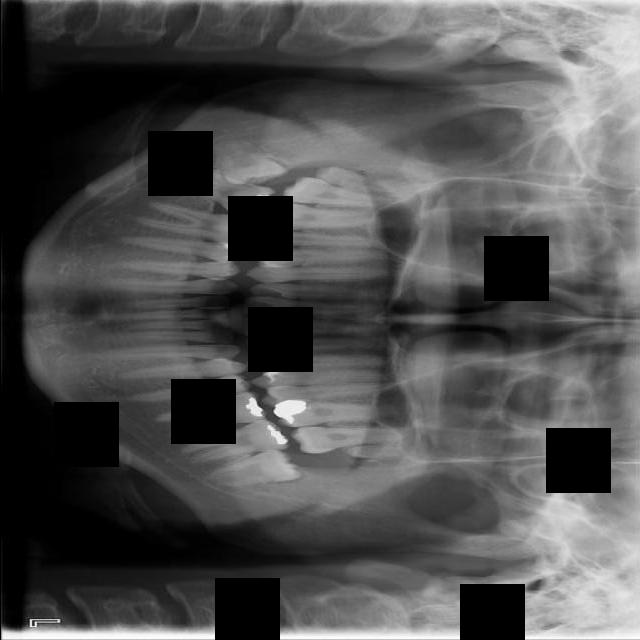3M ESPE Implant: (314, 163, 402, 201)
52: (217, 170, 277, 228), (236, 408, 292, 466), (217, 385, 269, 436), (206, 204, 255, 252), (271, 399, 320, 427), (249, 366, 295, 390), (200, 240, 241, 265)
73: (58, 591, 72, 593)
BioHorizons Implant: (289, 426, 413, 456)
Biomet 3i Implant: (203, 446, 302, 491)
Blue Sky Bio Implant: (177, 416, 291, 467)
Caries: (282, 175, 393, 212)
Implant: (167, 160, 276, 225)
Keystone Dental Implant: (213, 137, 288, 187)
